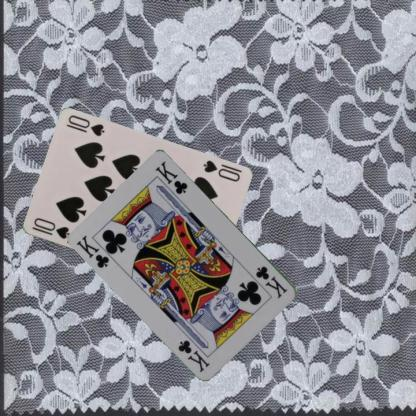10s: (29, 215, 71, 240), (200, 158, 241, 183)
Kc: (74, 232, 112, 270), (253, 263, 289, 300)
